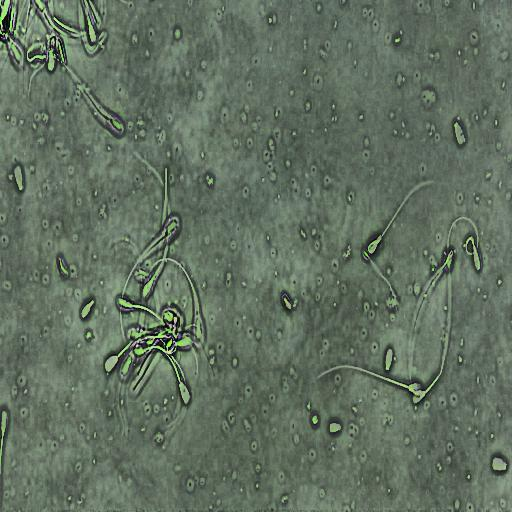dirt-particles: (57, 255, 70, 278), (281, 292, 294, 313), (311, 411, 320, 427)
folded-tail: (409, 251, 454, 377), (447, 216, 479, 255)
loose-head: (12, 161, 25, 194), (452, 119, 467, 147), (490, 452, 509, 473), (80, 297, 95, 320), (384, 346, 395, 372), (327, 420, 343, 436)
normal: (364, 176, 449, 264), (120, 219, 177, 341), (407, 272, 455, 410), (408, 250, 456, 383), (144, 258, 202, 343), (309, 359, 425, 398), (138, 340, 192, 407), (445, 212, 485, 275)
